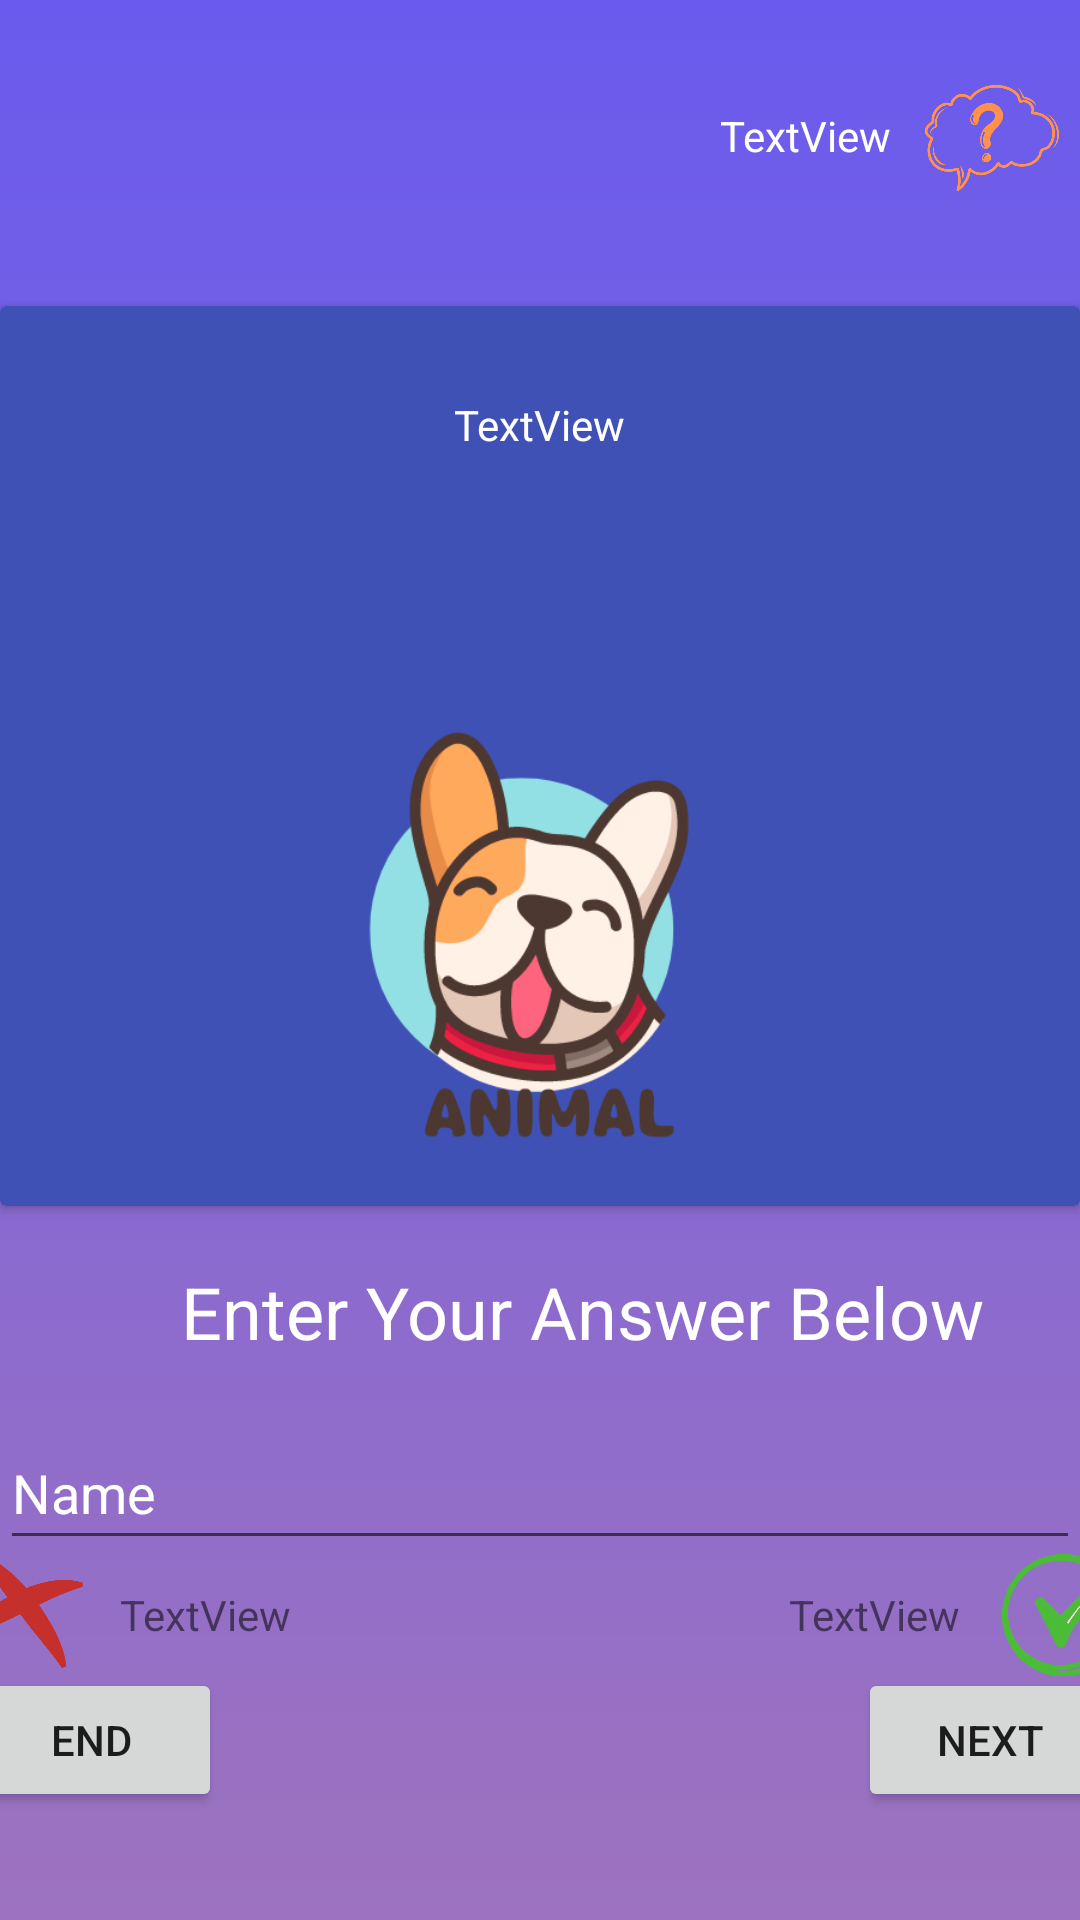

Icons on this 1080px×1920px Android screen, each with its box as [left=x1, top=y1, right=x2, bottom=y2]:
questionmark: [left=925, top=85, right=1059, bottom=191]
